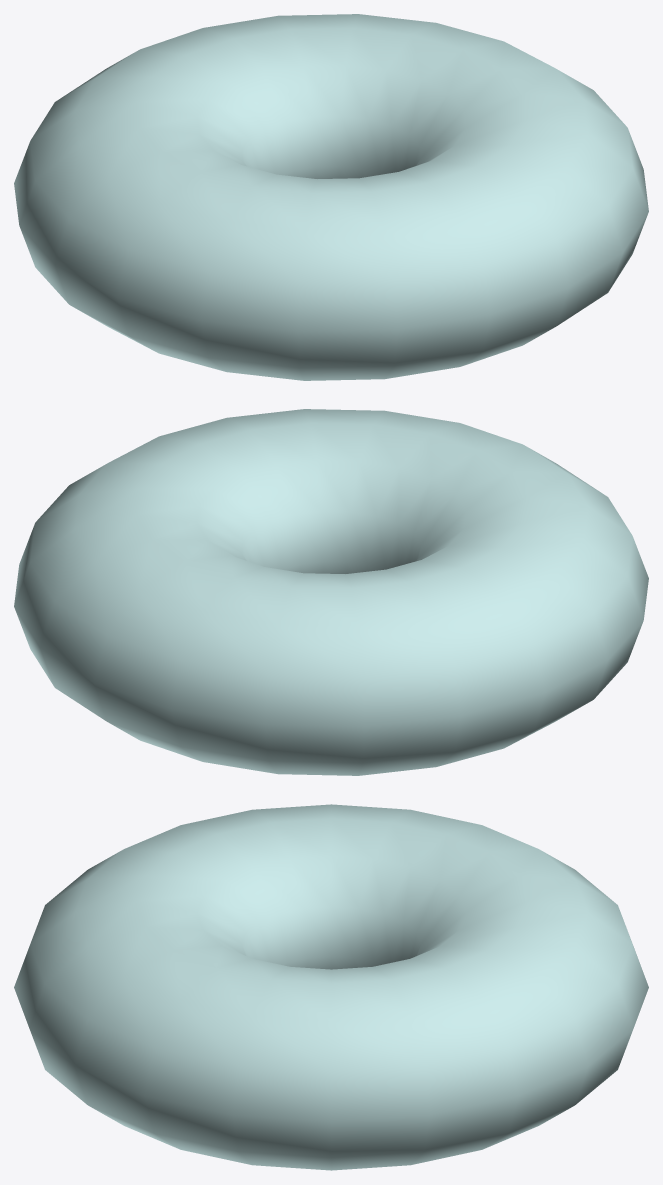
Rendered from PROPS_GOODS_DONUT_MODEL.fbx.
The picture shows the model from 3 angles, top to bottom: view 1: azimuth 30°, elevation 25°; view 2: azimuth 150°, elevation 25°; view 3: azimuth 270°, elevation 25°; orthographic projection.
Parts seen in each view (by area): view 1: PROPS_GOODS_DONUT_MODEL_low; view 2: PROPS_GOODS_DONUT_MODEL_low; view 3: PROPS_GOODS_DONUT_MODEL_low.
Part boxes in pixels (x1,y1,x2,y2): PROPS_GOODS_DONUT_MODEL_low: (14, 14, 648, 380); PROPS_GOODS_DONUT_MODEL_low: (14, 409, 648, 775); PROPS_GOODS_DONUT_MODEL_low: (14, 804, 648, 1170).
Bounding box in the file's own units: 15.16 × 4.54 × 15.16.
